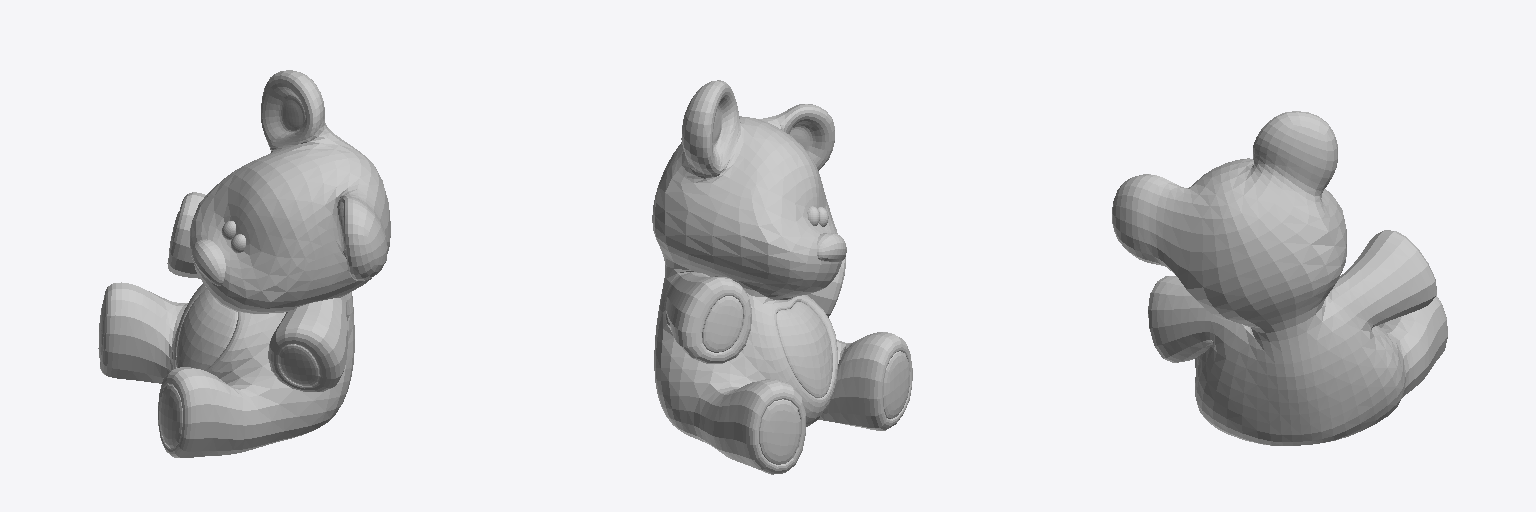
The model's file is Teddy.obj.
3 views of the same model, side by side, from view 1: azimuth 30°, elevation 25°; view 2: azimuth 150°, elevation 25°; view 3: azimuth 270°, elevation 25° (orthographic).
Visible parts, largest first — view 1: 3duToonBabyTeddy_5048; view 2: 3duToonBabyTeddy_5048; view 3: 3duToonBabyTeddy_5048.
Boxes of the visible parts, box(x1,y1,x2,y2) form: 3duToonBabyTeddy_5048: box(98, 70, 390, 457); 3duToonBabyTeddy_5048: box(652, 80, 912, 474); 3duToonBabyTeddy_5048: box(1112, 111, 1447, 445).
Bounding box in the file's own units: 1.11 × 1.59 × 1.46.